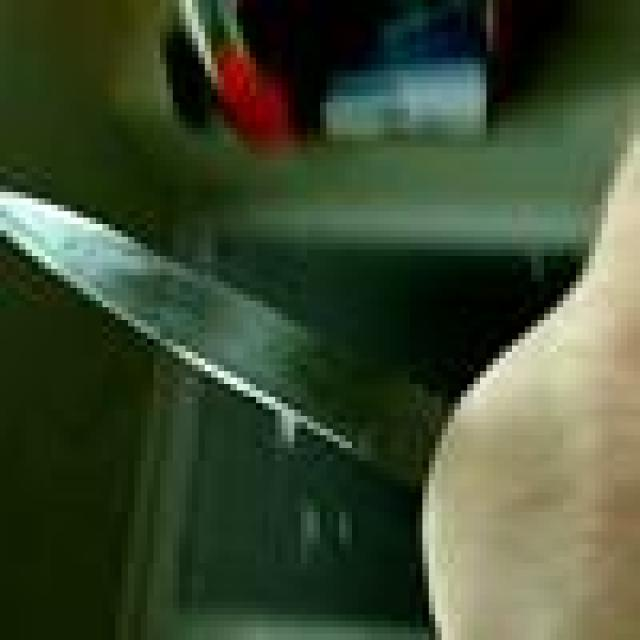knife: (0, 186, 429, 480)
